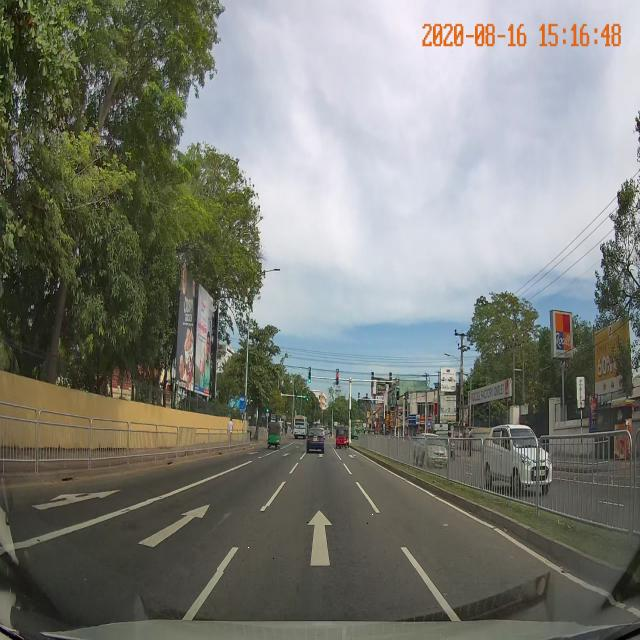forward: (217, 506, 415, 572)
